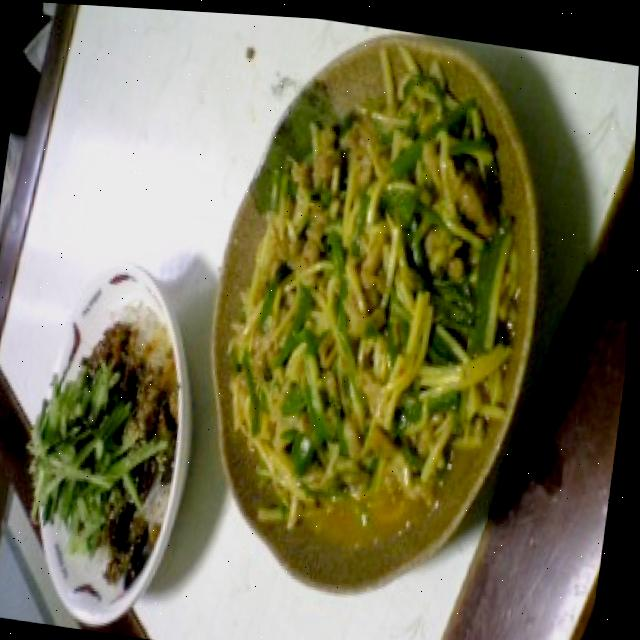牛肉菜式: (179, 9, 582, 607)
